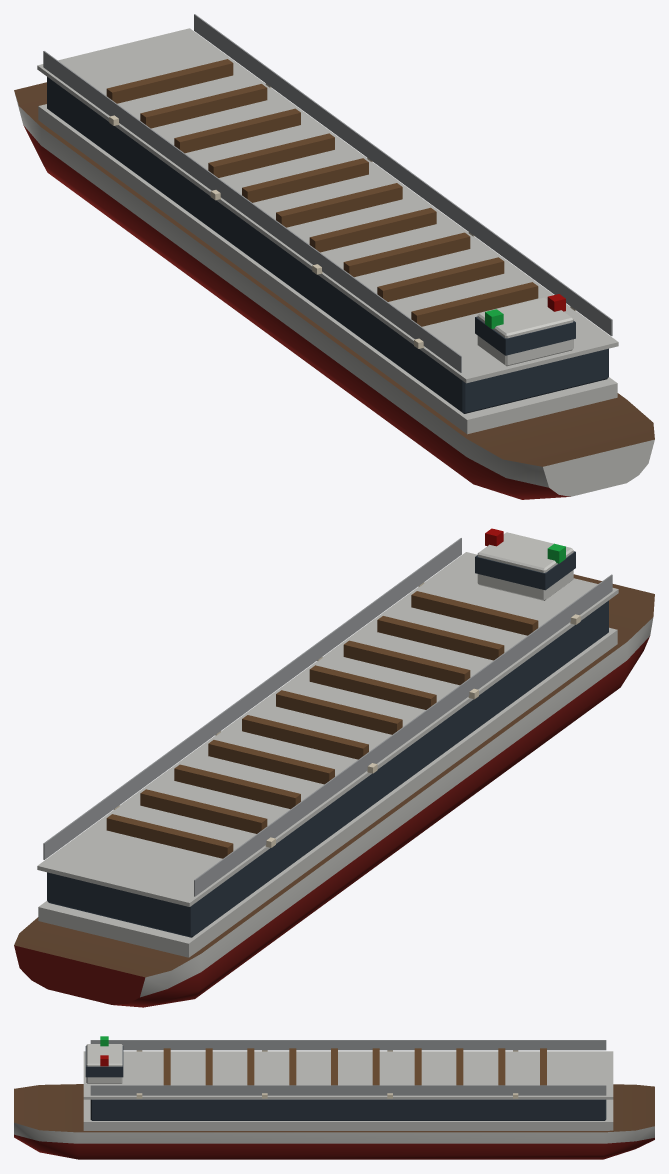
Rendered from bateau_mouche.glb.
3 renders of one model, top to bottom at view 1: azimuth 30°, elevation 25°; view 2: azimuth 150°, elevation 25°; view 3: azimuth 270°, elevation 25°, orthographic. The views are drawn at different scales.
Parts seen in each view (by area): view 1: bateau_mouche; view 2: bateau_mouche; view 3: bateau_mouche.
Part boxes in pixels (x1,y1,x2,y2): bateau_mouche: (14, 14, 654, 499); bateau_mouche: (14, 528, 654, 1007); bateau_mouche: (14, 1036, 654, 1159).
Bounding box in the file's own units: 8.3 × 7.1 × 46.
